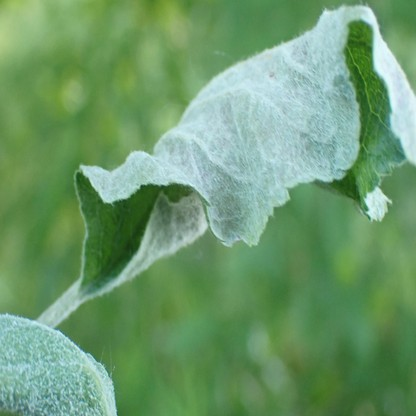powder: (72, 4, 416, 295), (0, 315, 118, 416)
